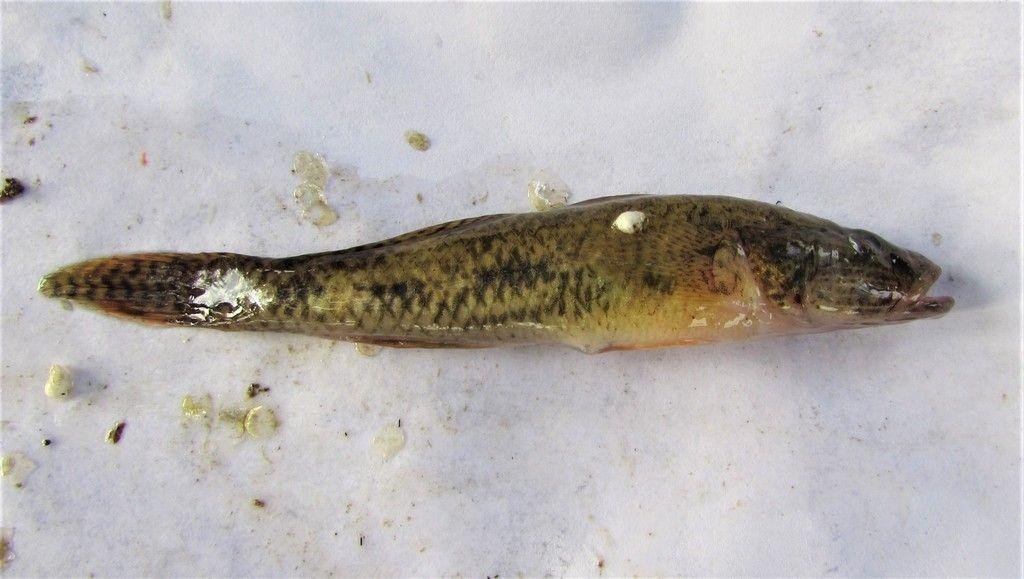Goby: (48, 161, 953, 364)
